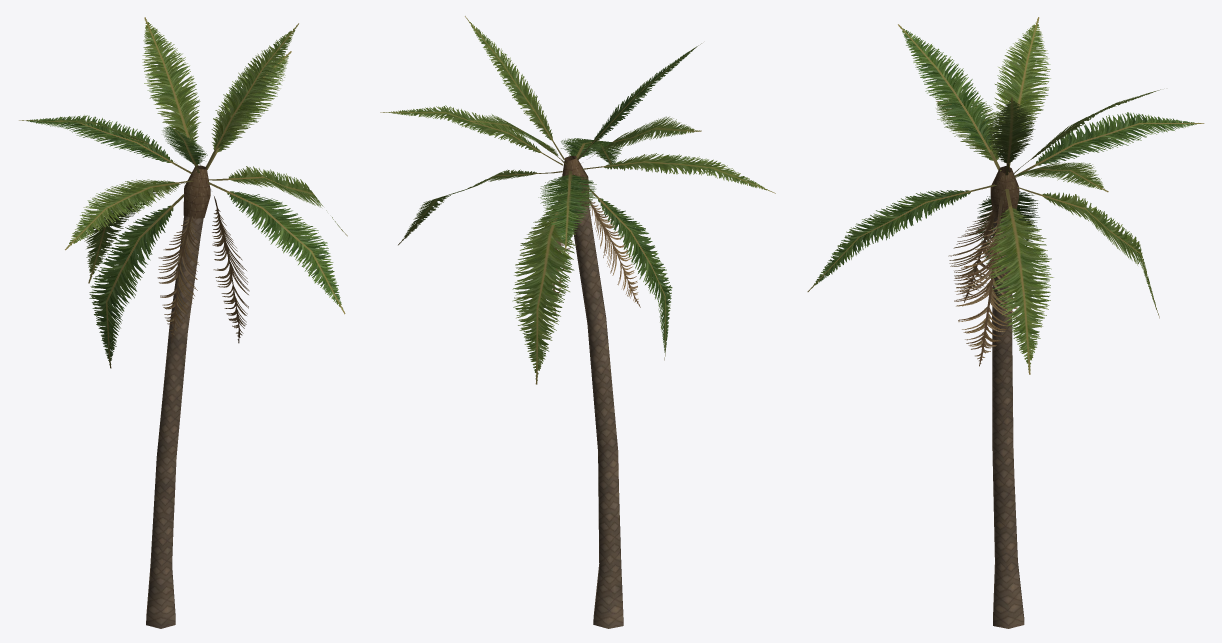
Rendered from palm_hero_lod2.glb.
3 views of the same model, side by side, from view 1: azimuth 30°, elevation 25°; view 2: azimuth 150°, elevation 25°; view 3: azimuth 270°, elevation 25° (orthographic). The views are drawn at different scales.
Visible parts, largest first — view 1: palm_hero_lod2; view 2: palm_hero_lod2; view 3: palm_hero_lod2.
Part boxes in pixels (<box>): palm_hero_lod2: <box>19,17,347,628</box>; palm_hero_lod2: <box>380,16,775,628</box>; palm_hero_lod2: <box>807,17,1204,628</box>.
Bounding box in the file's own units: 6.15 × 10 × 6.11.
Materials: 2 (2 with a texture image).
